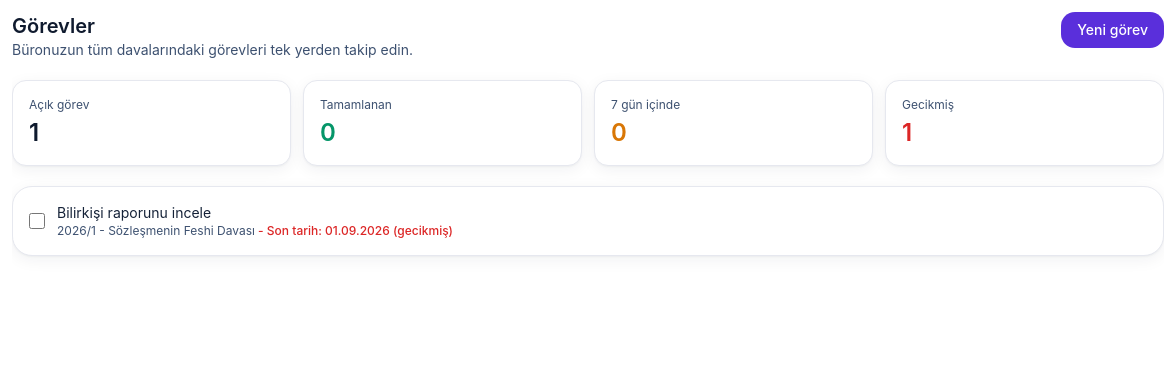
TasksView › shows the server's message when a task cannot be changed (archived case), else a Turkish fallback
Click the checkbox at x=37, y=221, box [29, 213, 45, 229]
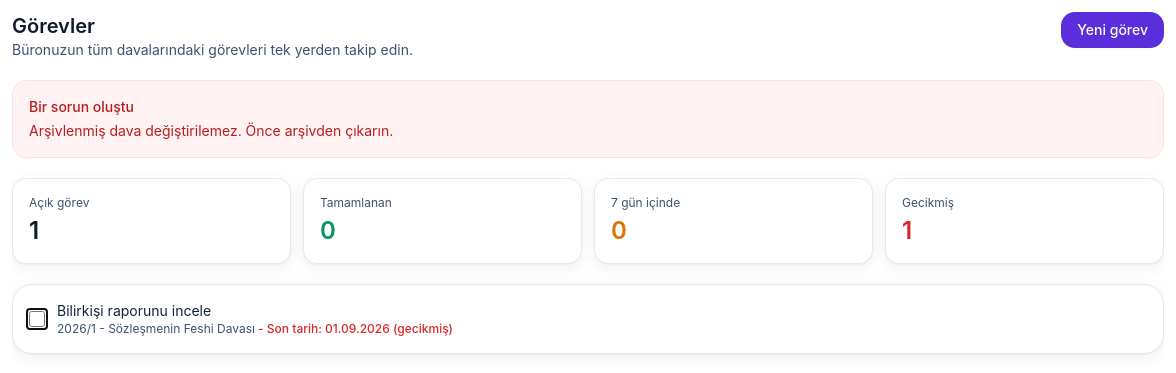
Now the text "Arşivlenmiş dava değiştirilemez. Önce arşivden çıkarın." is shown, box [29, 121, 393, 141]
Click the checkbox at x=37, y=319, box [29, 311, 45, 327]
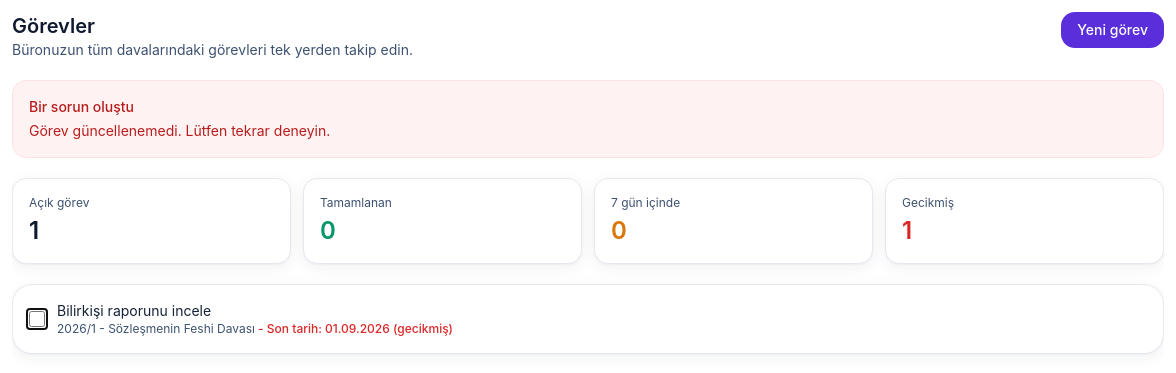
Now the text "Görev güncellenemedi. Lütfen tekrar deneyin." is shown, box [29, 121, 330, 141]
